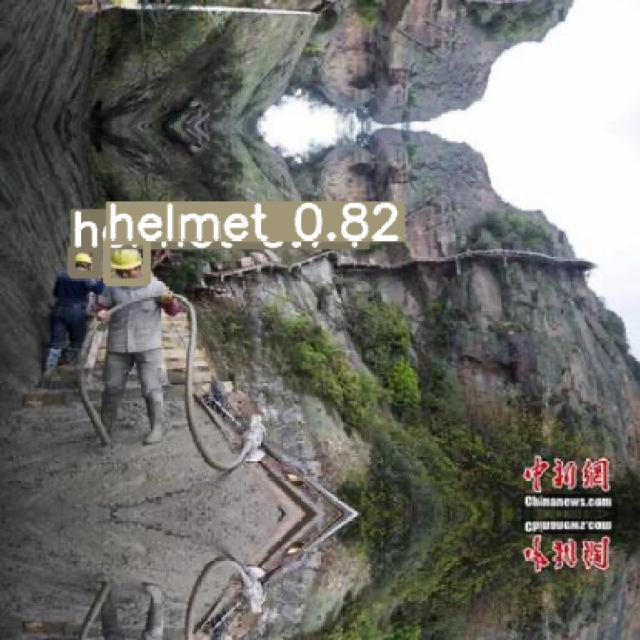yellow helmet: (114, 246, 144, 279), (75, 250, 92, 272)
